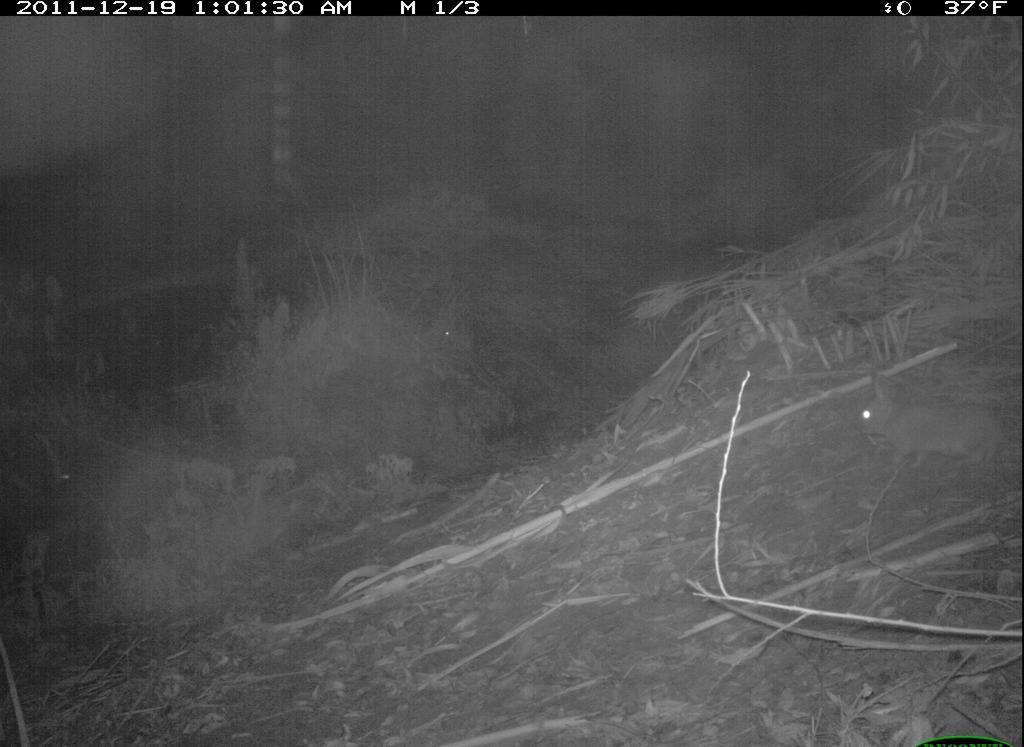rabbit: (847, 372, 1000, 474)
